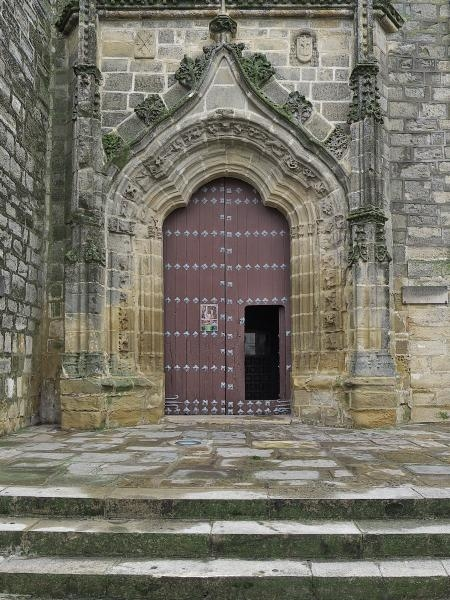arco-trilobulado: (152, 165, 304, 240)
